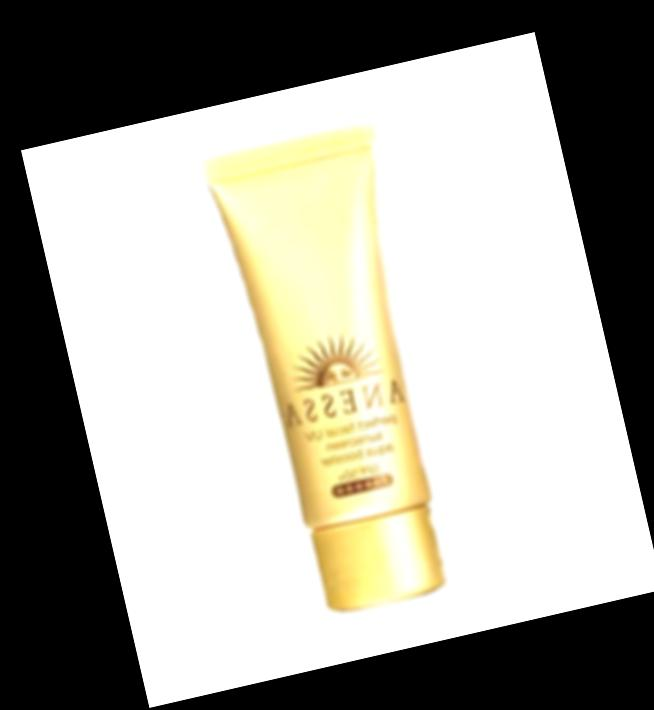cosmetic: (200, 120, 483, 621)
